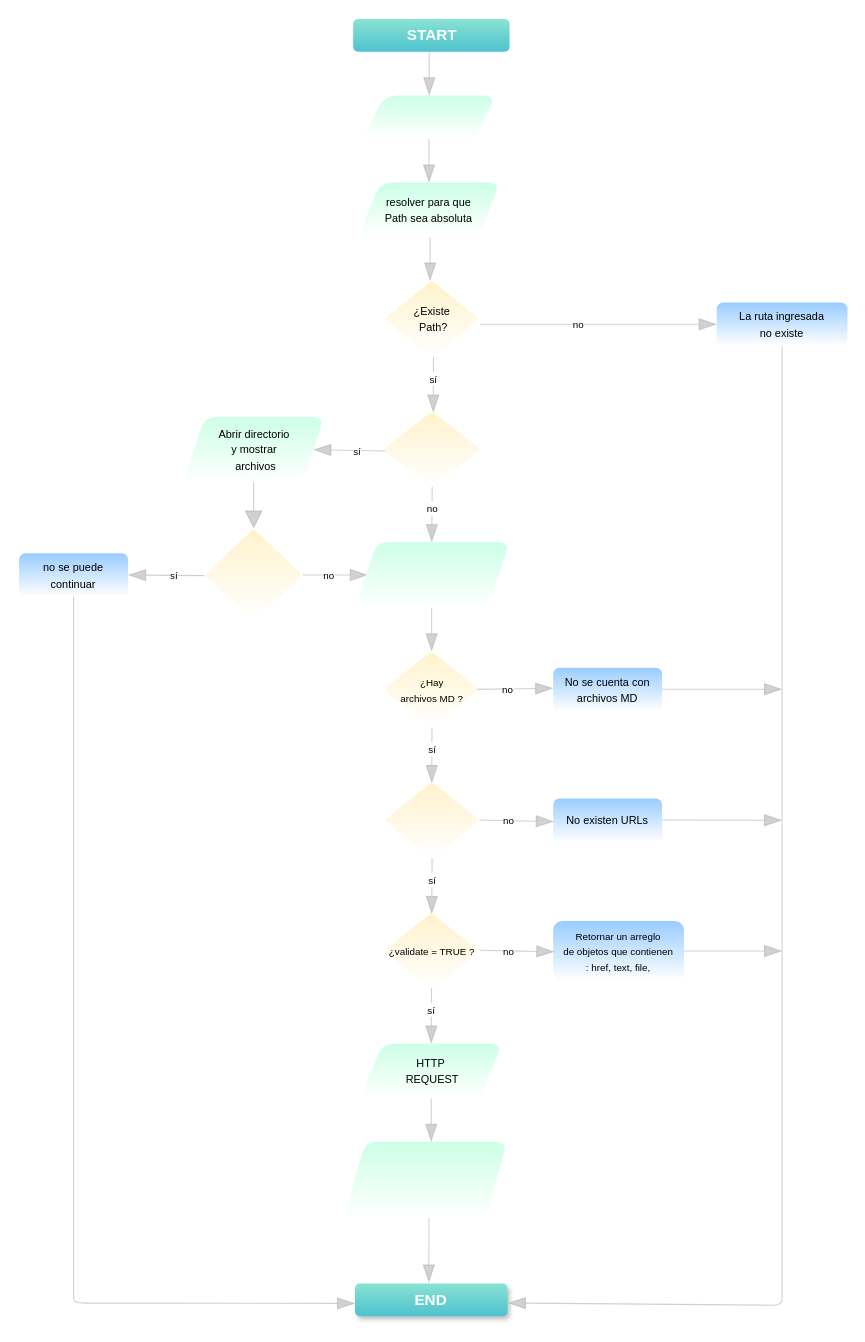
The diagram is 865 pixels wide and 1342 high, and some of its shapes have lost their labels. Each missing label, with the centre of its shape:
"Filtrar array para solo obtener archivos MD" belongs at (x=431, y=574).
"ingresar Path" belongs at (x=429, y=116).
"Retornar un arreglo de objetos que contienen : href, text, file, status, ok/fail" belongs at (x=425, y=1179).
"¿El Directorio está vacío?" belongs at (x=253, y=574).
"¿Existe Directorio?" belongs at (x=431, y=449).
"¿Tiene URLs ?" belongs at (x=431, y=820).
